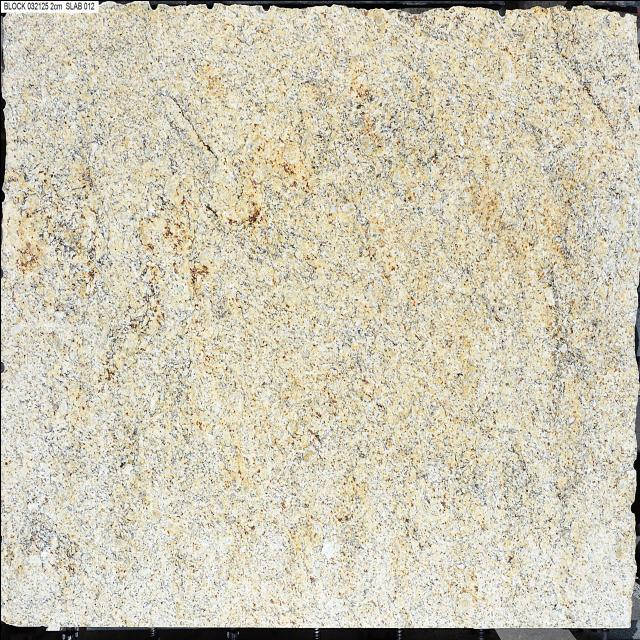chapa: (0, 4, 640, 628)
